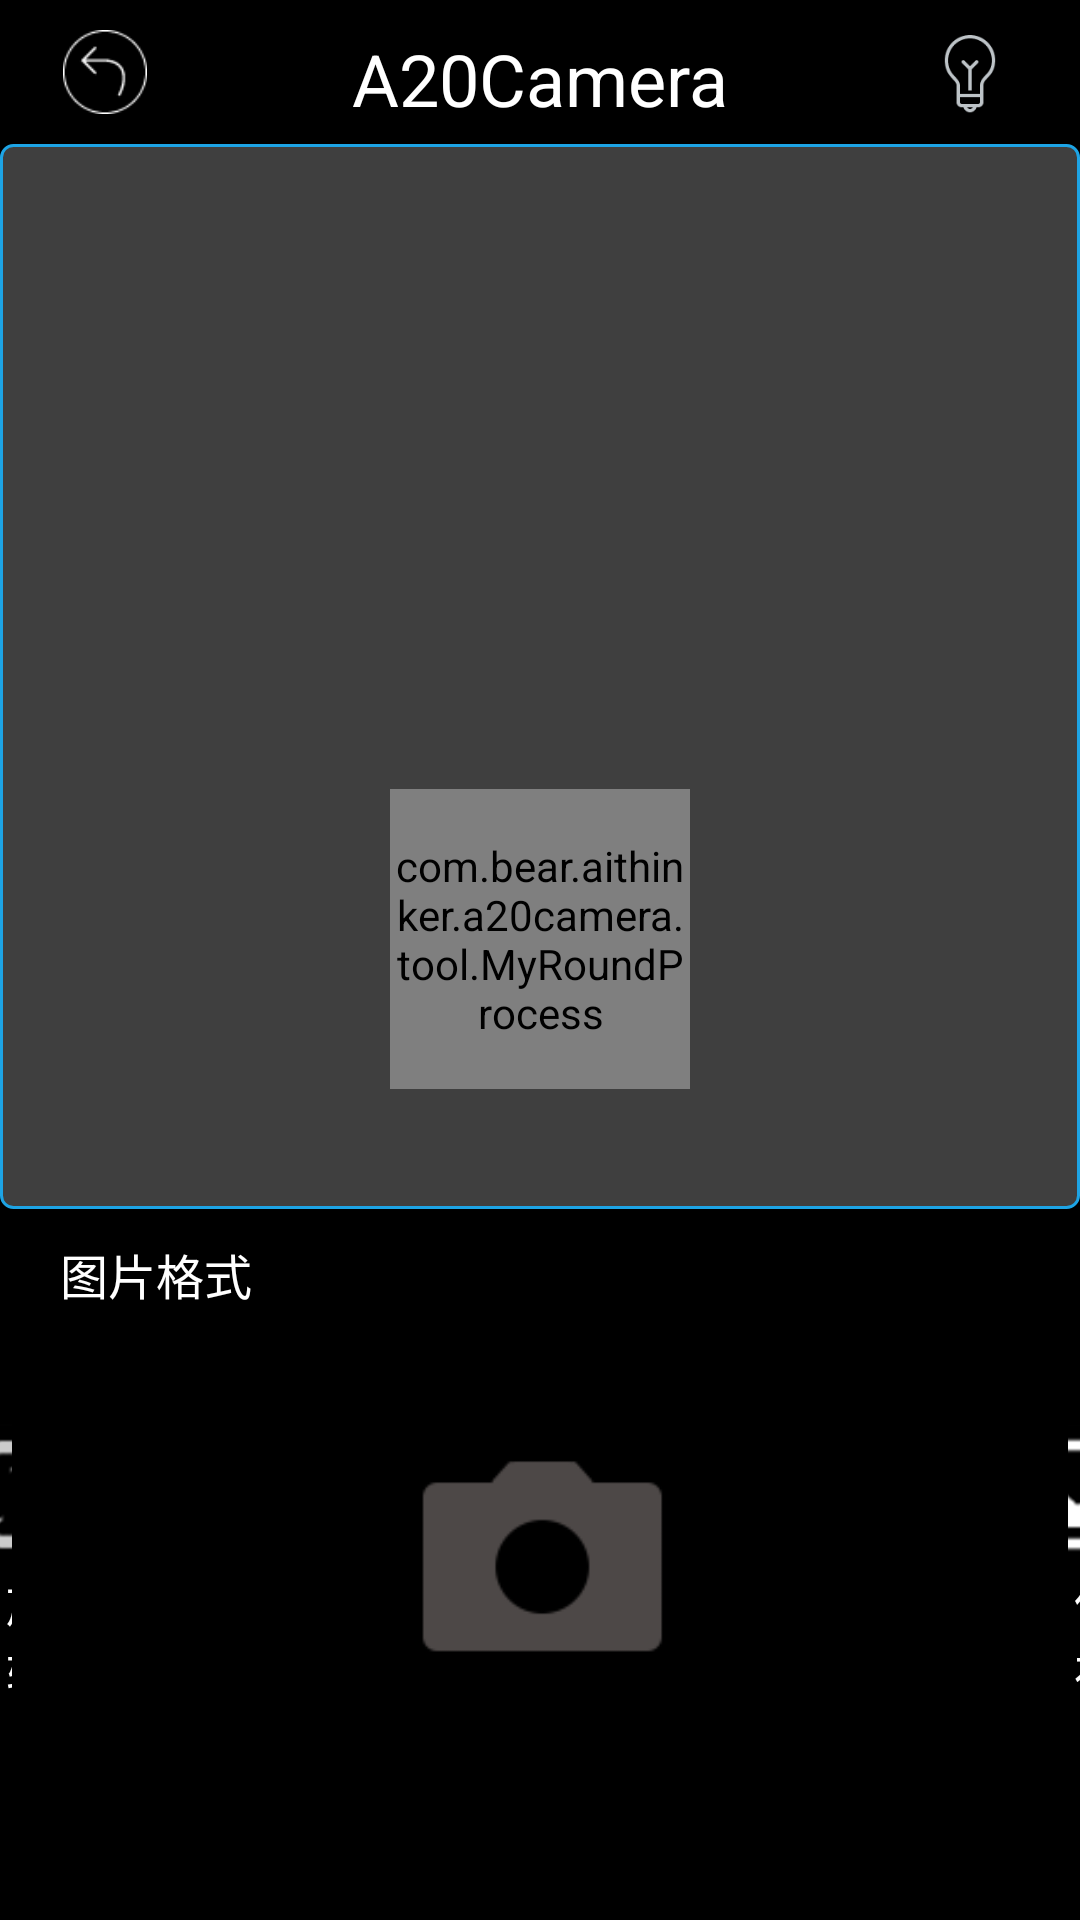

Named icons in this screenshot (1080 × 1920) and their centers, [x,y]:
back: [105,72]
led off: [970,74]
